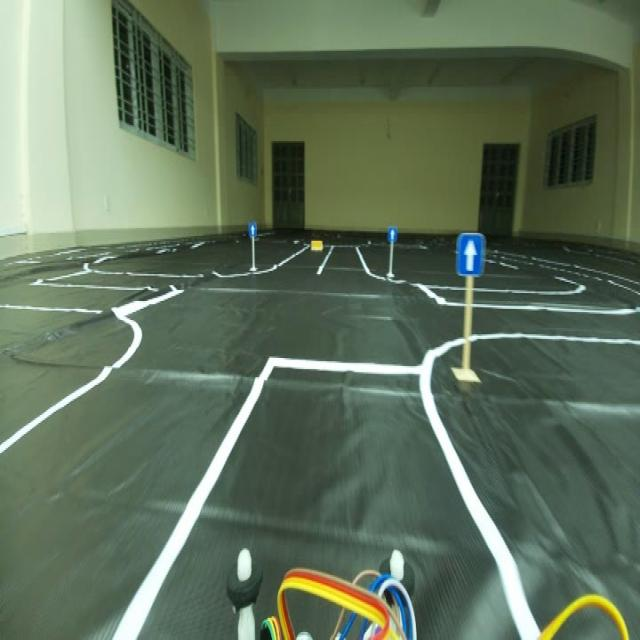onewayroad: (454, 224, 486, 281), (382, 223, 396, 246), (246, 219, 257, 234)
roadblock: (310, 234, 328, 254)
